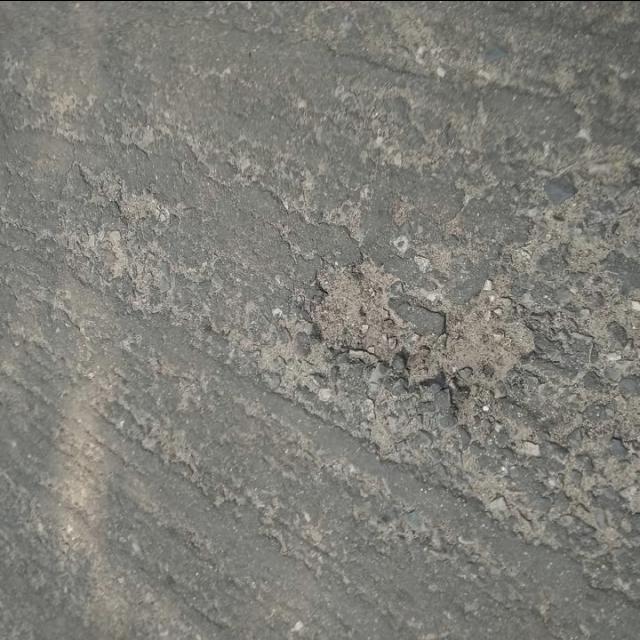pothole: (278, 268, 544, 408)
